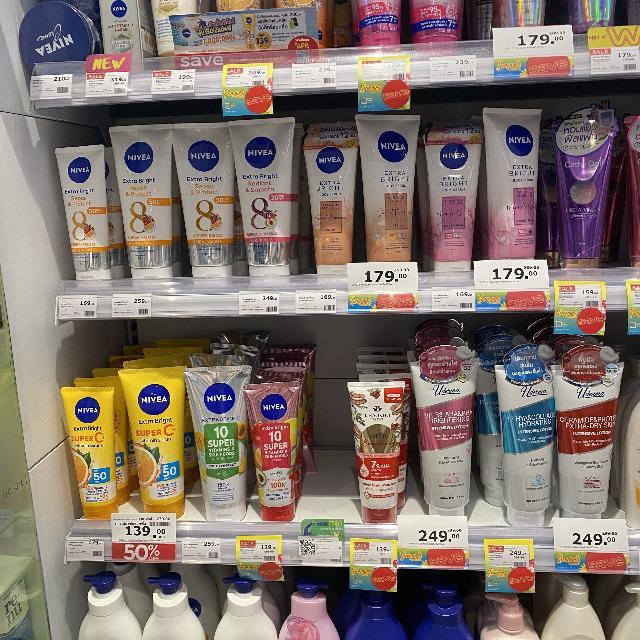Squeeze Tube: (31, 100, 640, 298), (40, 339, 331, 555), (351, 338, 640, 540)
